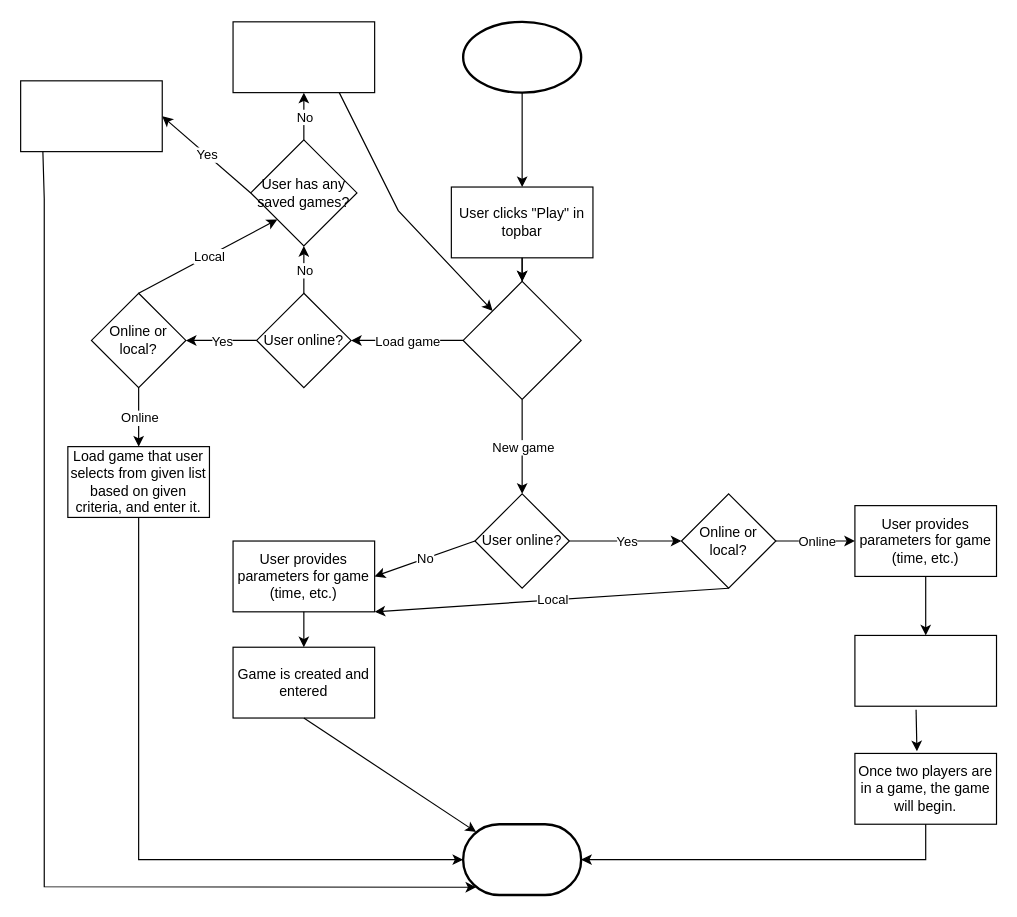
Some shapes in this 1017 by 917 pixel diagram are drawn without their labels. The centre of each missing label's shape, as x and y in pixels:
Display no games: point 303,57
End: point 521,859
Load game that user selects from given list, and enter it.: point 90,116
New game or load game?: point 521,339
Start: point 521,56
The game is created, program will wait for second player to join via the URL: point 925,670
